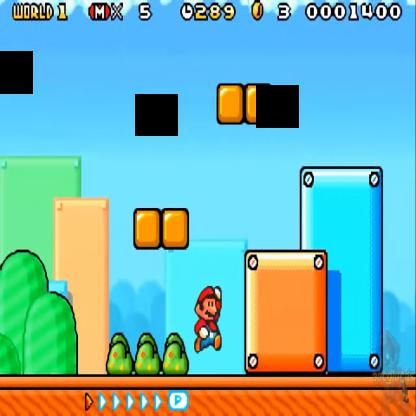Mario: (191, 283, 223, 354)
moneda: (252, 0, 264, 24)
